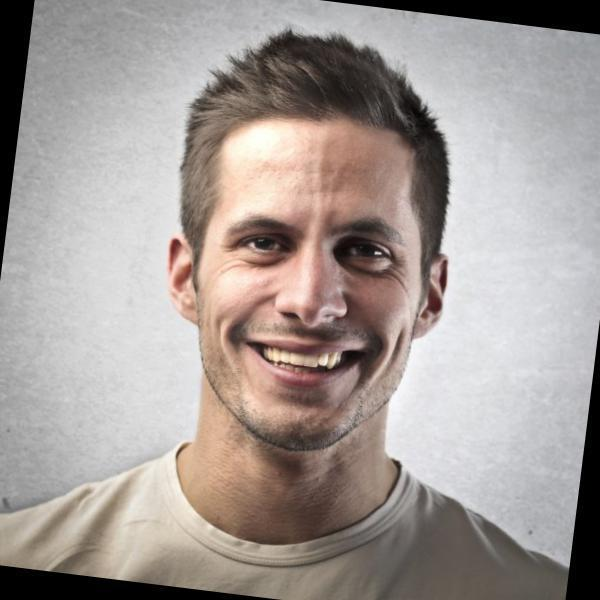Sober: (208, 124, 415, 436)
